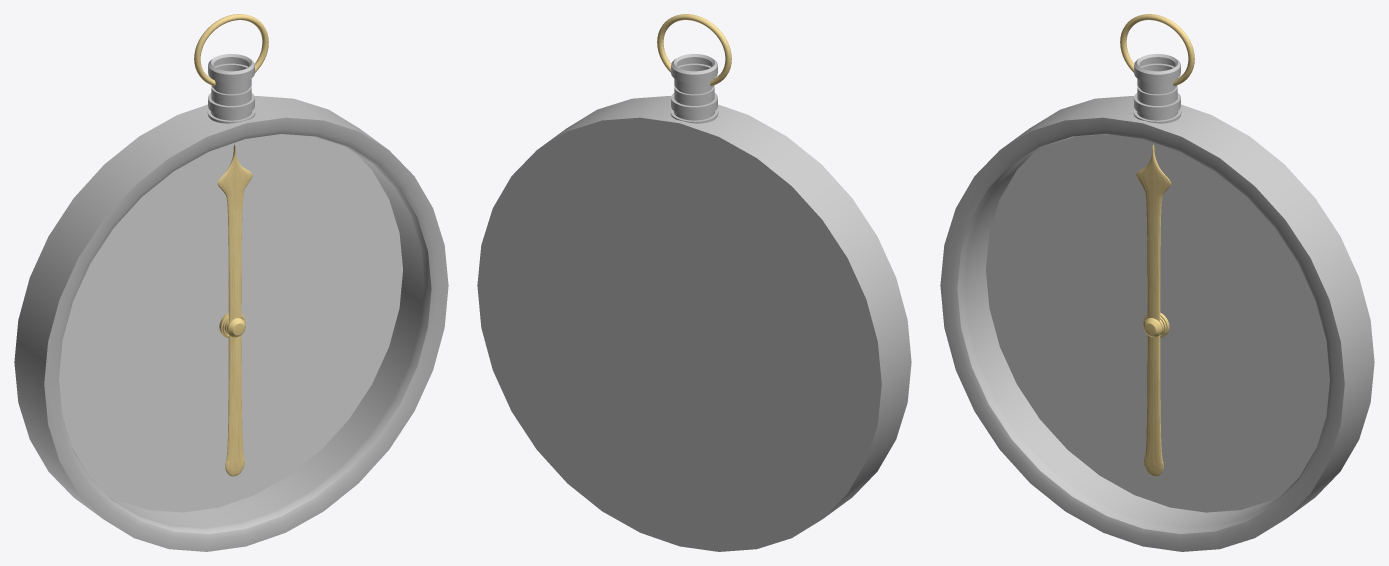
The model's file is PZ_COMPASS.fbx.
3 renders of one model, left to right at view 1: azimuth 30°, elevation 25°; view 2: azimuth 150°, elevation 25°; view 3: azimuth 330°, elevation 25°, orthographic.
Visible parts, largest first — view 1: PZ_COMPASS; view 2: PZ_COMPASS; view 3: PZ_COMPASS.
Boxes of the visible parts, x1,y1,x2,y2 form: PZ_COMPASS: [14, 14, 448, 551]; PZ_COMPASS: [477, 14, 911, 551]; PZ_COMPASS: [940, 14, 1374, 551].
Size of the model in its own units: 18.53 by 22.78 by 2.37.
